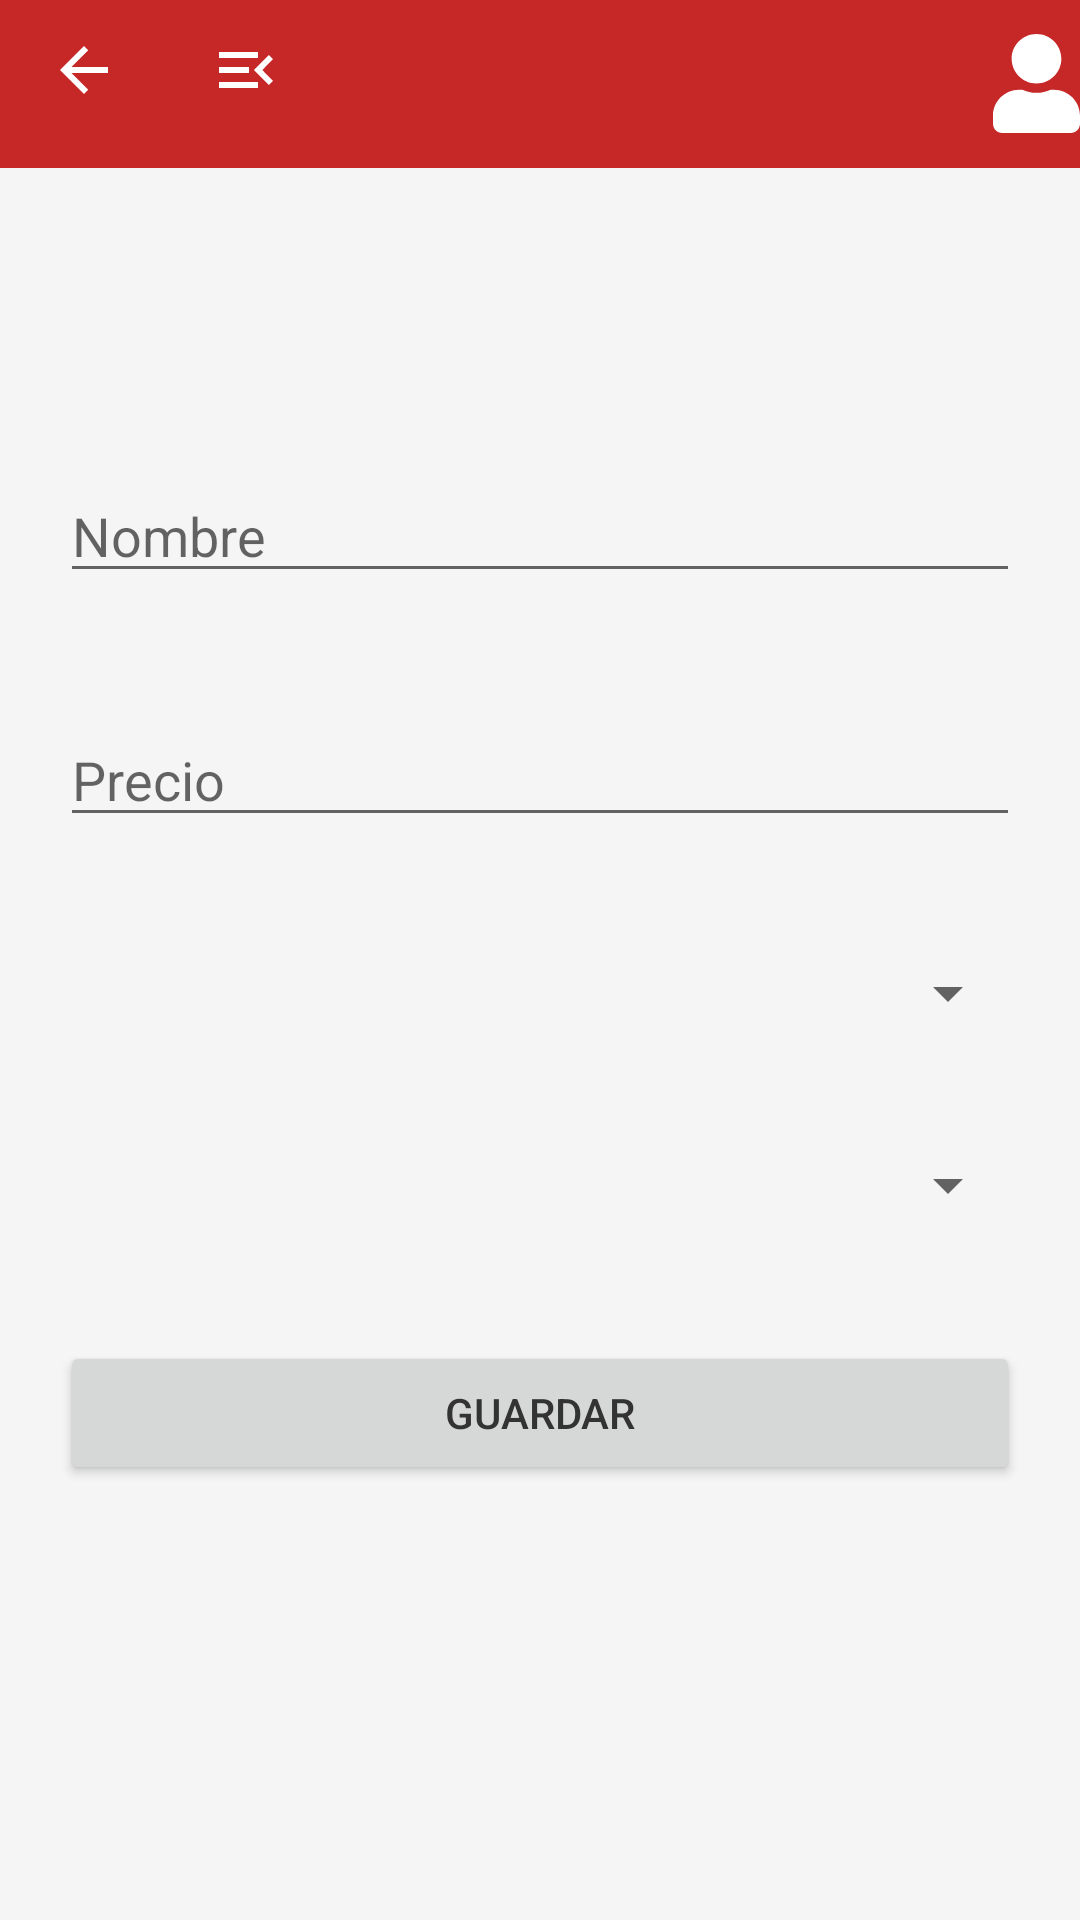

Icons on this 1080 × 1920 Android screen, each with the point to tap as (x,y):
arrow back: (84,70)
open: (246,70)
user: (1036,83)
